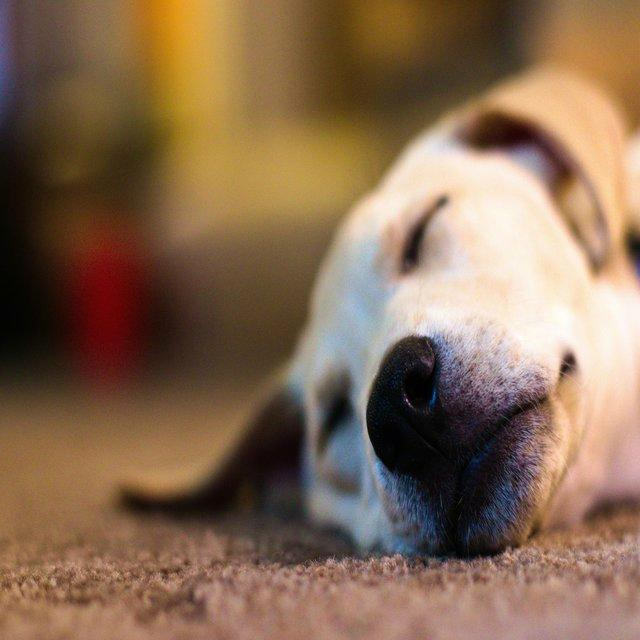retriever: (115, 60, 638, 560)
